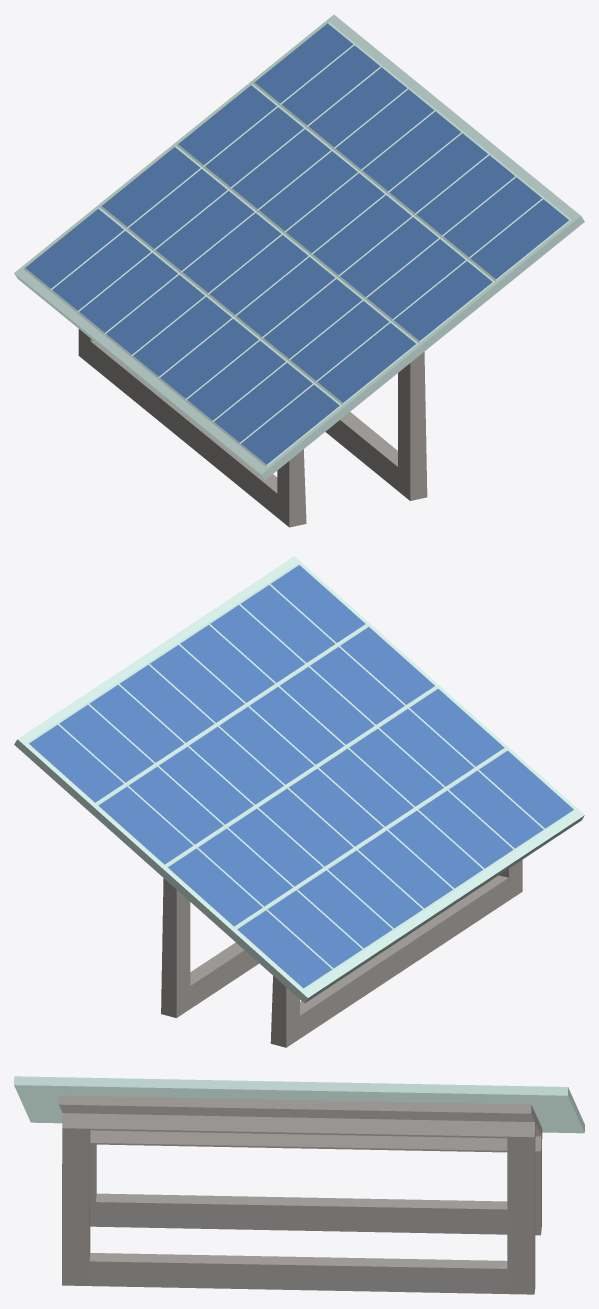
File: Solar_Battery.fbx
3 views of the same model, one above another, from view 1: azimuth 30°, elevation 25°; view 2: azimuth 150°, elevation 25°; view 3: azimuth 270°, elevation 25° (orthographic). The views are drawn at different scales.
Visible parts, largest first — view 1: Solar_Battery; view 2: Solar_Battery; view 3: Solar_Battery.
Boxes of the visible parts, left/top/right/bottom form: Solar_Battery: left=14, top=14, right=584, bottom=527; Solar_Battery: left=14, top=556, right=584, bottom=1047; Solar_Battery: left=14, top=1076, right=584, bottom=1294.
Size of the model in its own units: 132 by 188 by 99.73.
